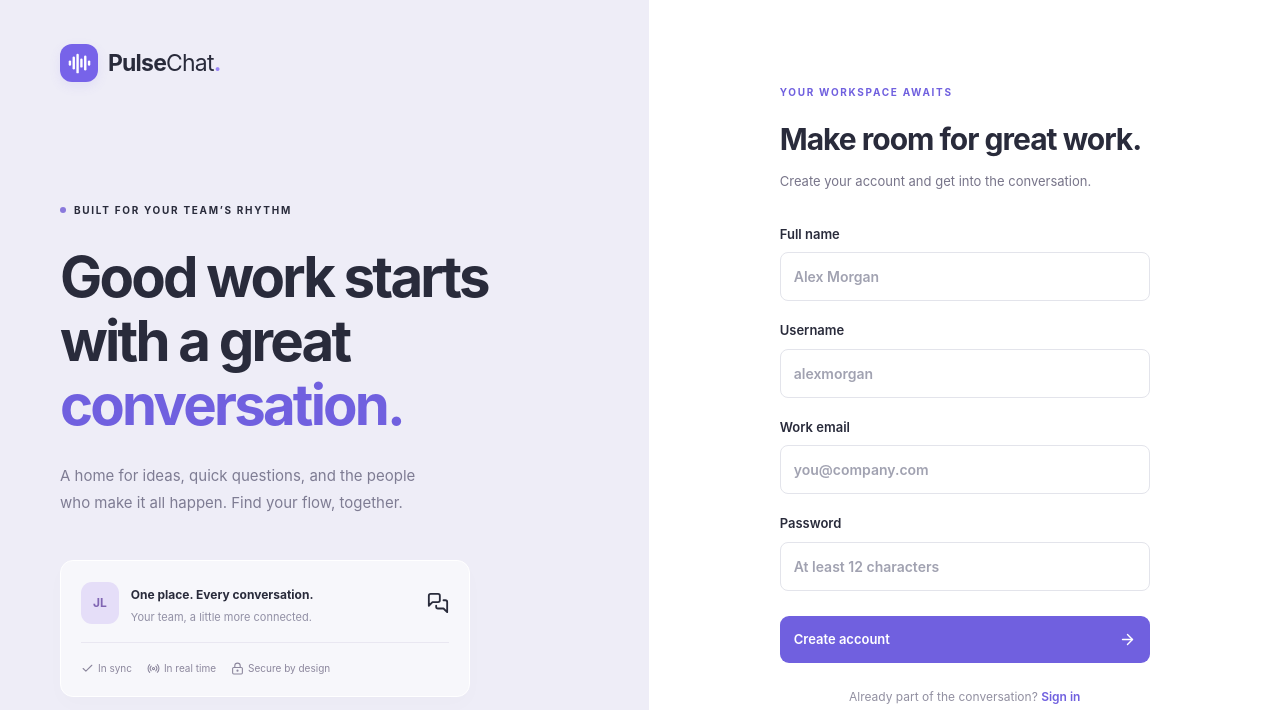
registration form › shows useful validation before making a request
Click the button "Create account" at {"x": 842, "y": 638}, box [780,616,1150,663]
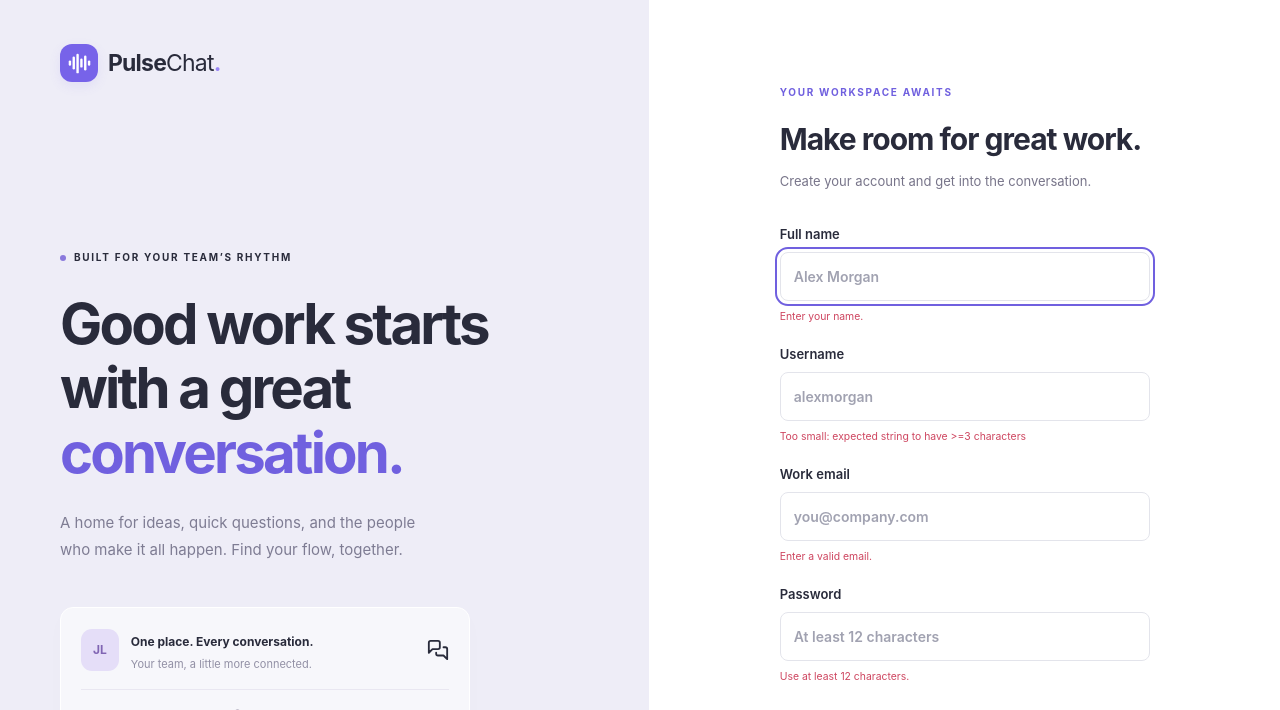
Result: the text "Enter your name." is shown at [780,310,863,323]
Result: the text "Use at least 12 characters." is shown at [780,670,909,683]
